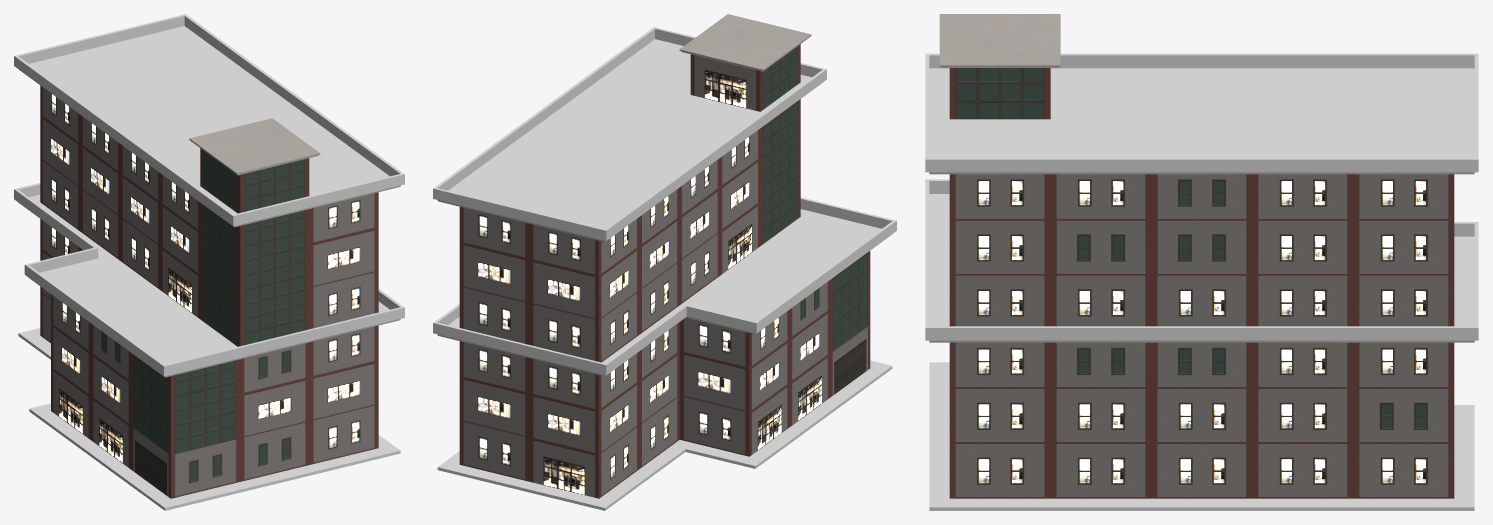
File: BuildingI.fbx
3 renders of one model, left to right at view 1: azimuth 30°, elevation 25°; view 2: azimuth 150°, elevation 25°; view 3: azimuth 270°, elevation 25°, orthographic. The views are drawn at different scales.
Visible parts, largest first — view 1: BuildingI; view 2: BuildingI; view 3: BuildingI.
Part boxes in pixels (bbox=[...]): BuildingI: bbox=[14, 14, 404, 510]; BuildingI: bbox=[433, 14, 896, 510]; BuildingI: bbox=[925, 14, 1478, 510].
Bounding box in the file's own units: 1740 × 2180 × 2740.
